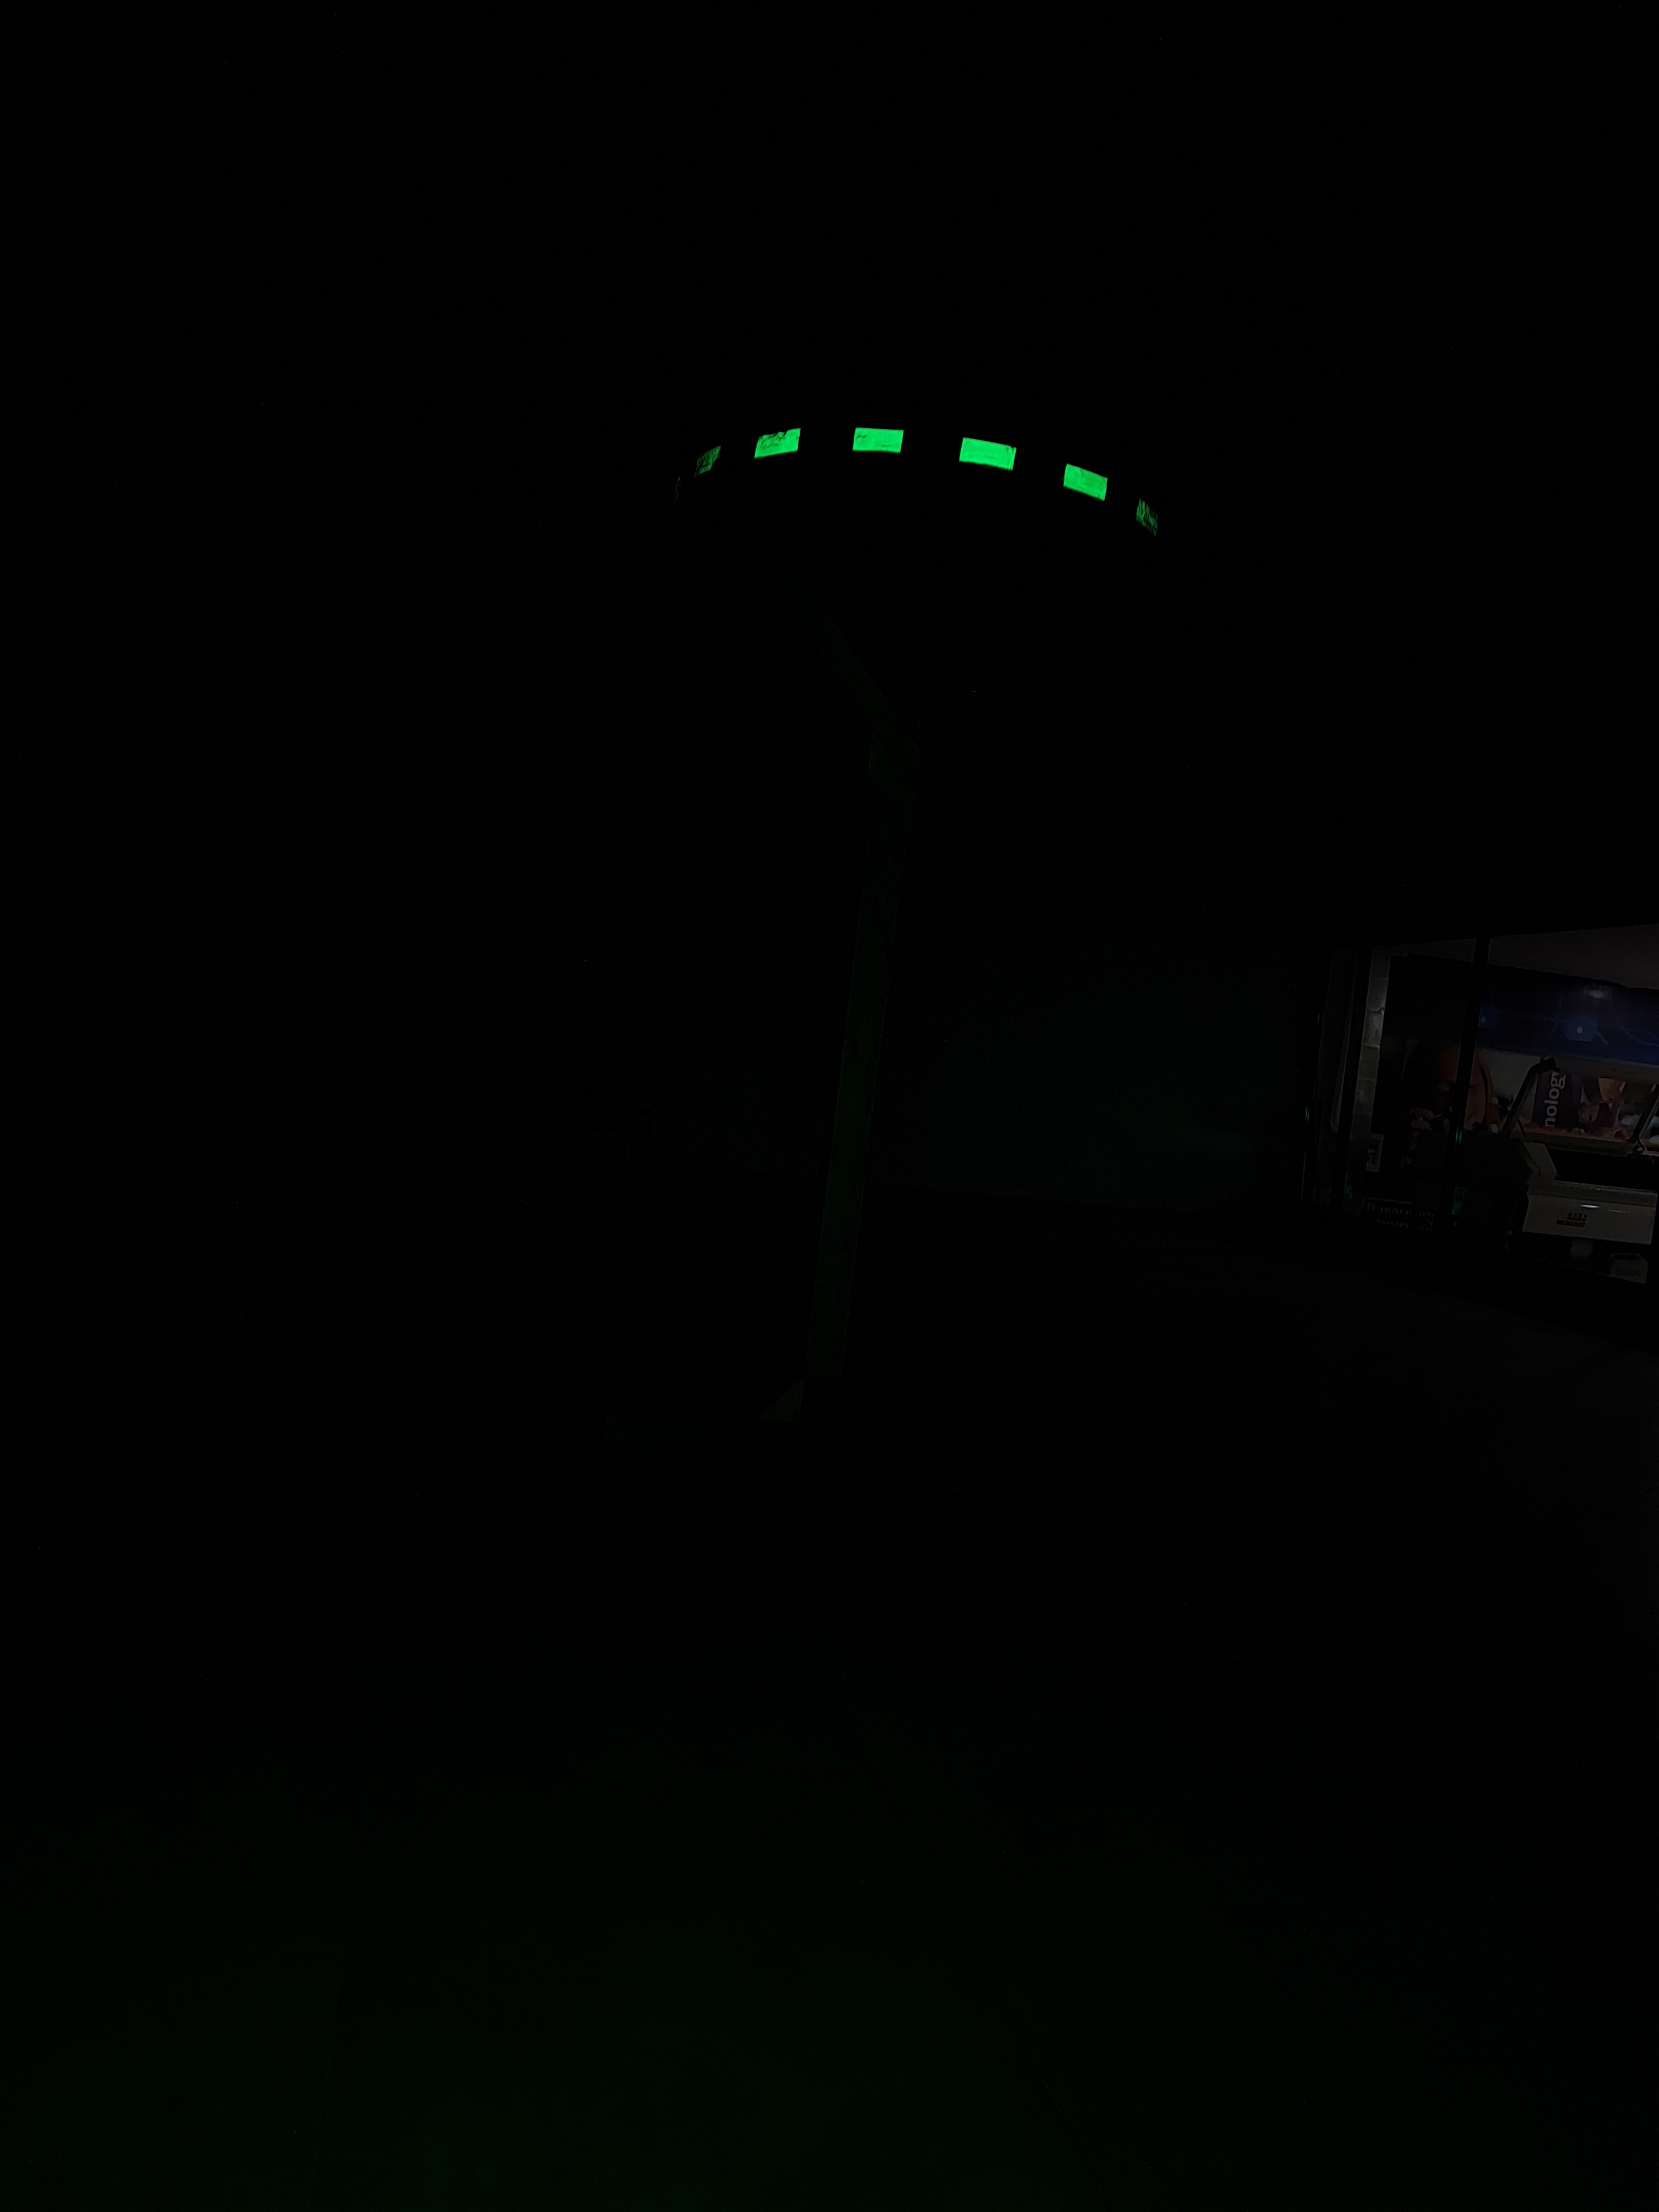hoop: (659, 415, 1182, 564)
